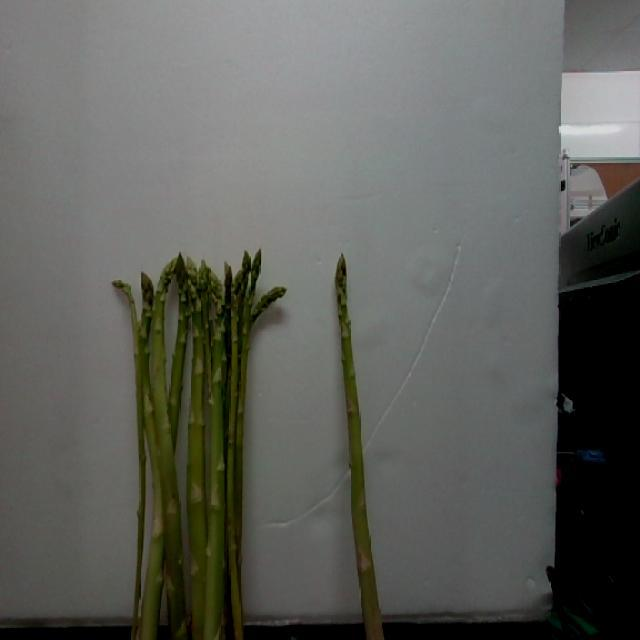aspargus: (335, 256, 387, 640)
